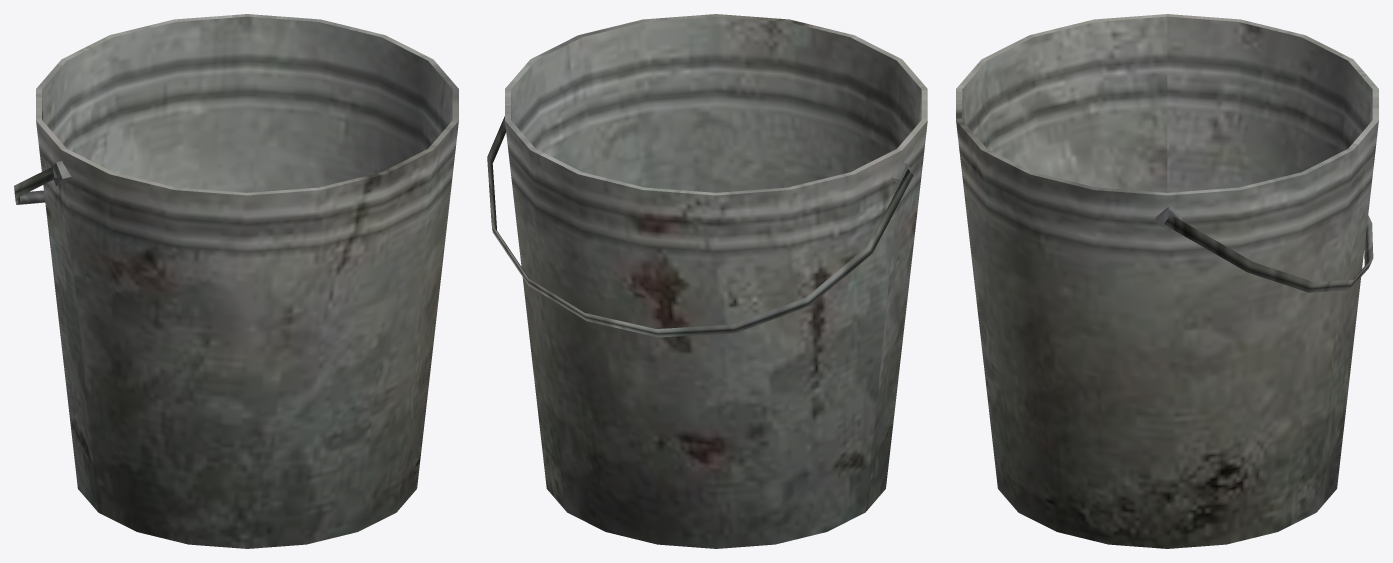
Rendered from MetalBucket01a.glb.
The picture shows the model from 3 angles, left to right: view 1: azimuth 30°, elevation 25°; view 2: azimuth 150°, elevation 25°; view 3: azimuth 270°, elevation 25°; orthographic projection.
Visible parts, largest first — view 1: 0_MetalBucket01a; view 2: 0_MetalBucket01a; view 3: 0_MetalBucket01a.
Boxes of the visible parts, left/top/right/bottom form: 0_MetalBucket01a: left=14, top=14, right=458, bottom=548; 0_MetalBucket01a: left=487, top=14, right=927, bottom=548; 0_MetalBucket01a: left=956, top=14, right=1378, bottom=548.
Bounding box in the file's own units: 0.4478 × 0.4081 × 0.4212.
1 material, 1 textured.
